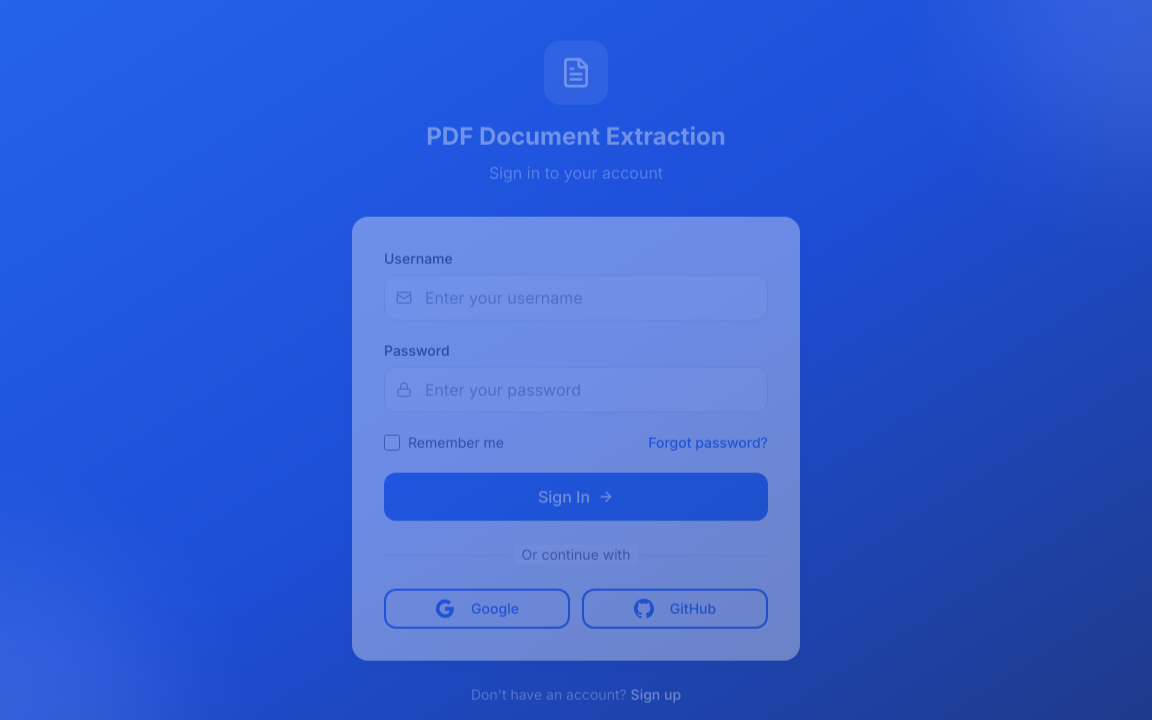
LoginPage › Form Validation › shows error when submitting empty password
This screenshot has width=1152, height=720.
In the field labelled "Username": (576, 298) [384,275,768,321], type "testuser"
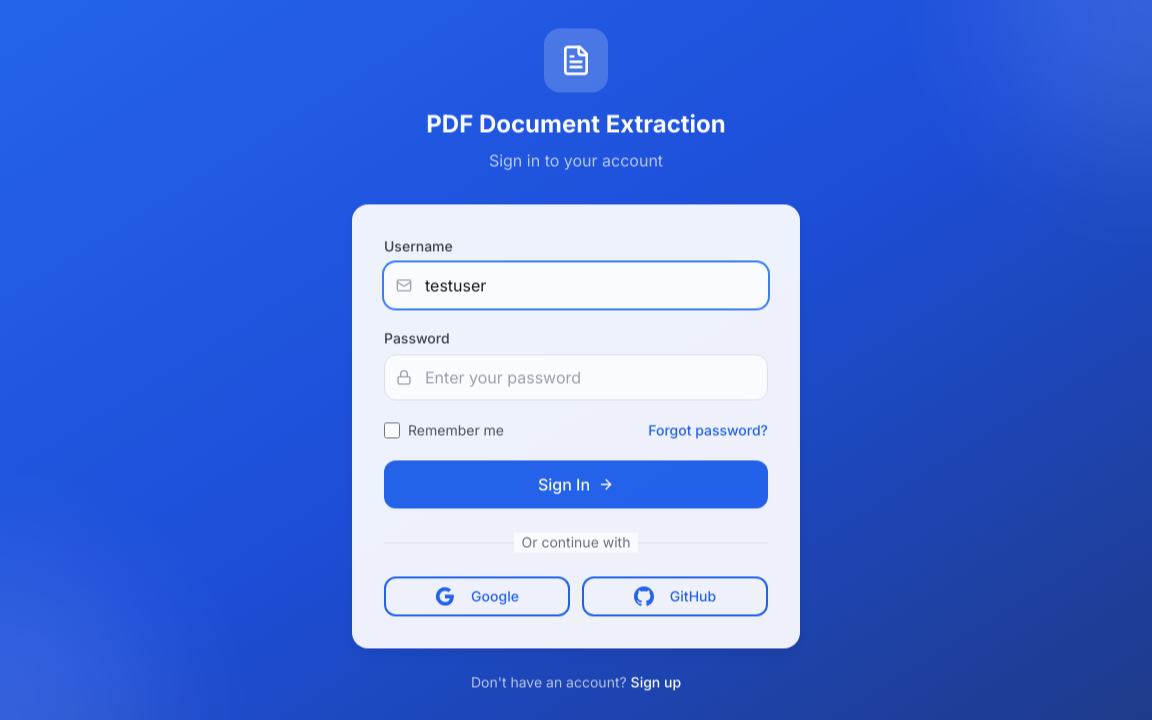
Click the button "Sign In": (576, 484) [384,460,768,508]
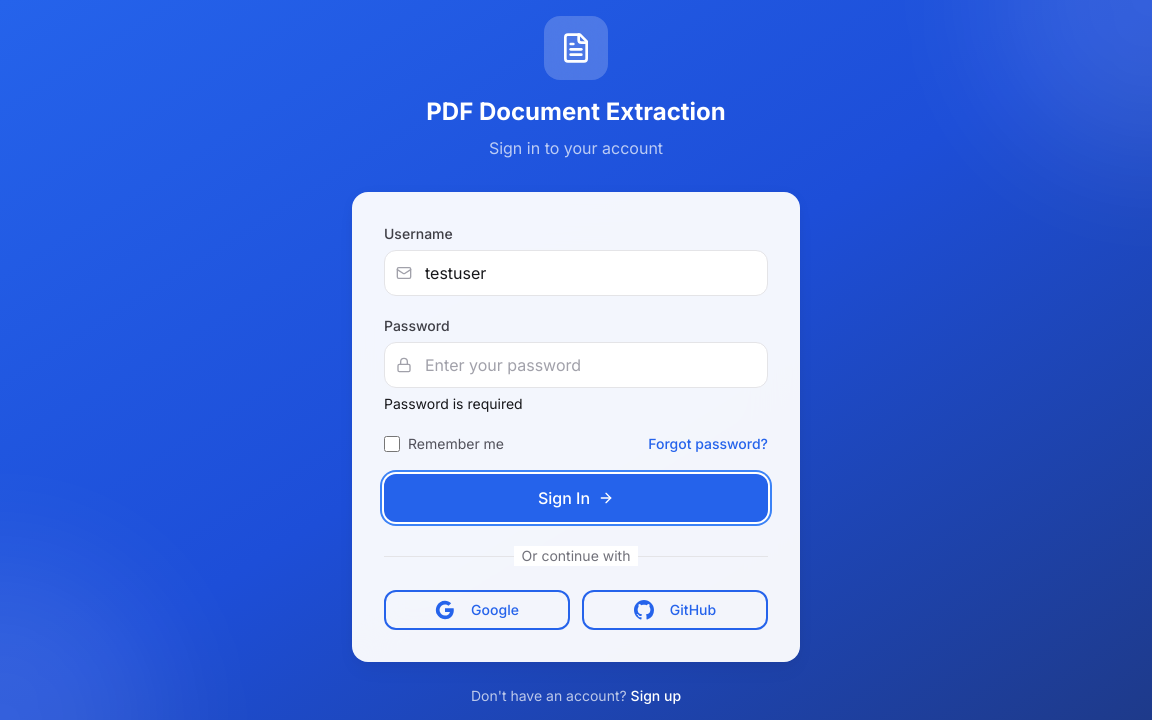
Expected: the text "Password is required" is shown, [384,395,523,412]
